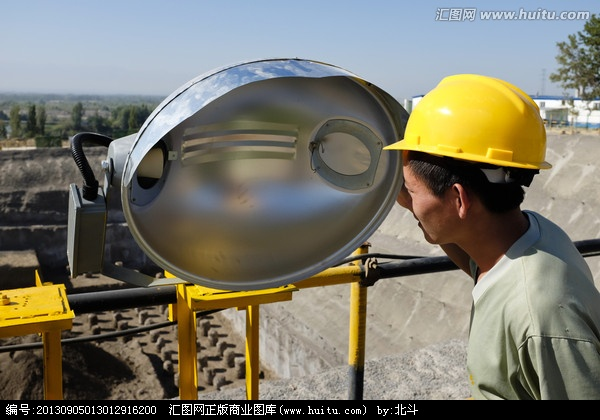yellow: (398, 68, 546, 249)
